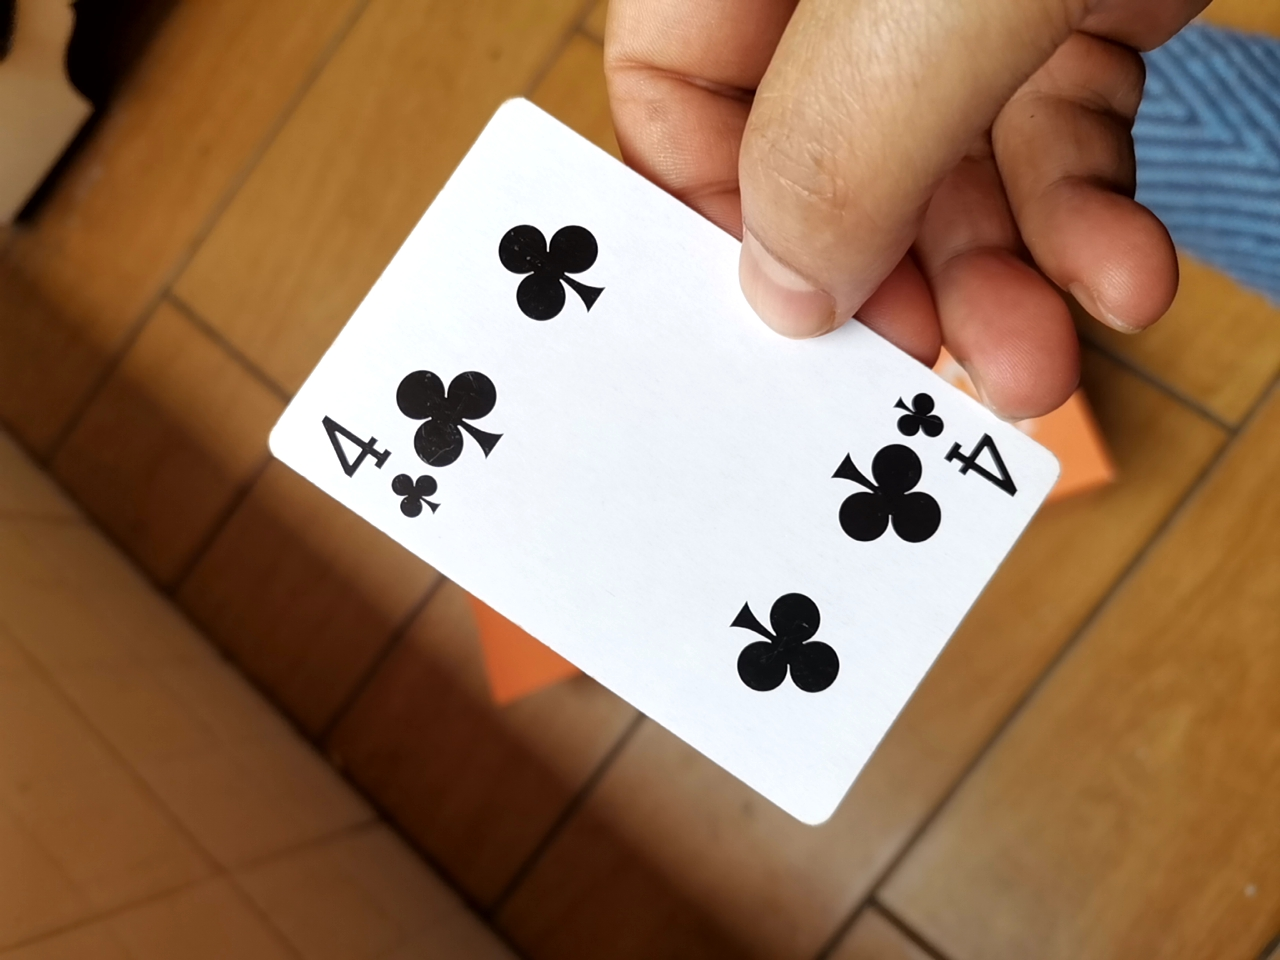mh 4: (256, 89, 1076, 830)
